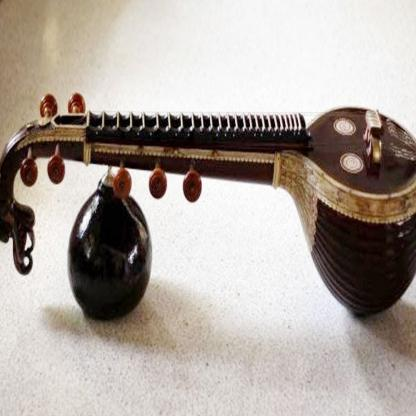Veena: (1, 95, 416, 226)
